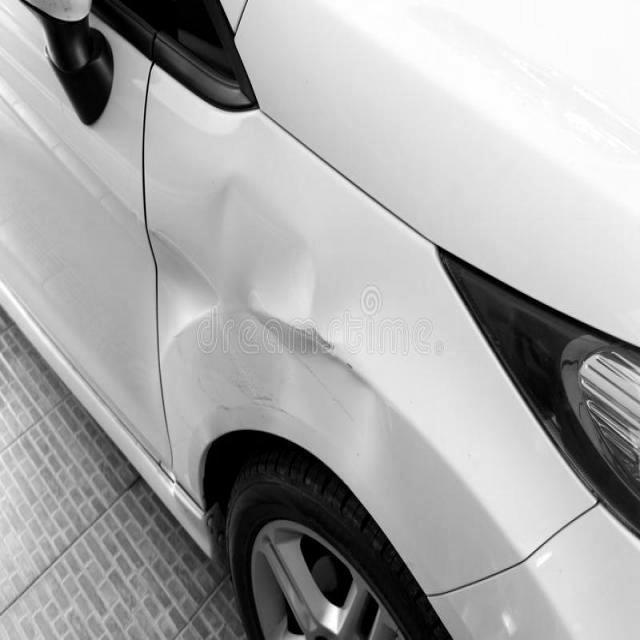fender-dent: (154, 185, 415, 624)
